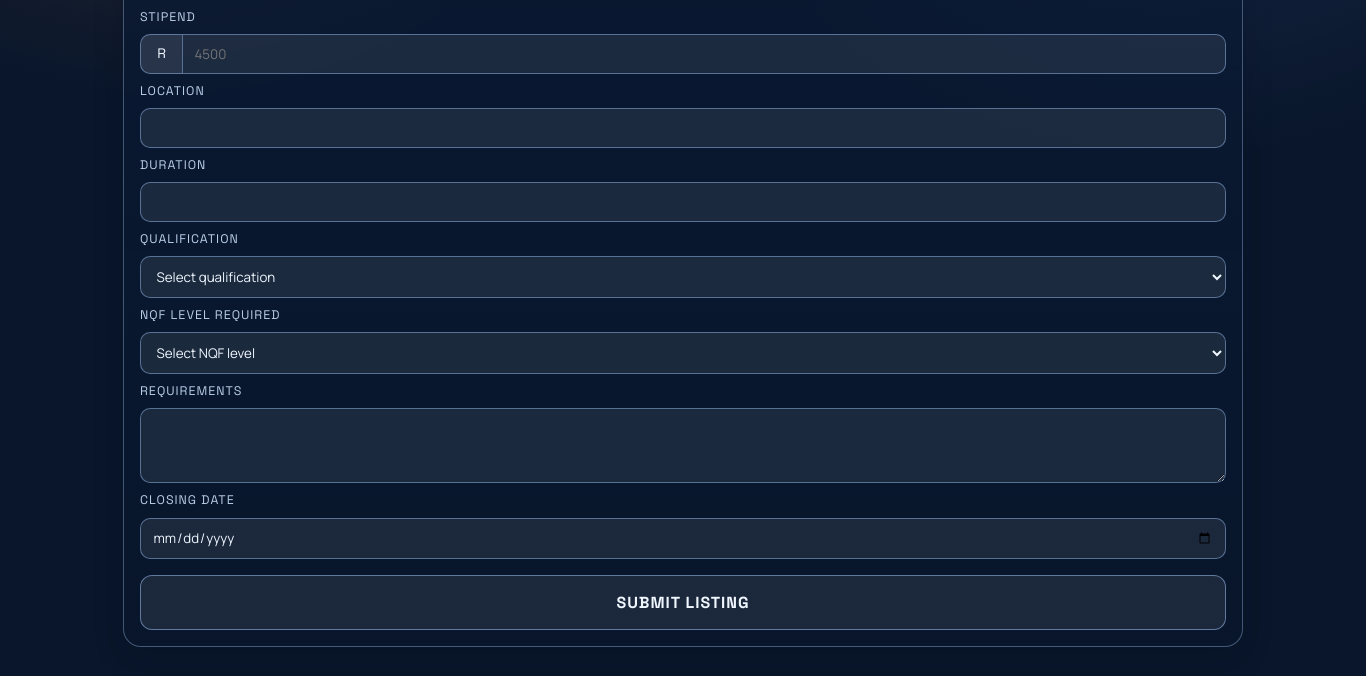
Test case: ProviderListingForm acceptance tests › shows validation errors when required fields are missing
The width and height of the screenshot is (1366, 676).
(page scrolled)
Click the button "Submit listing". click: (683, 603)
box: [140,575,1226,630]
(page scrolled)
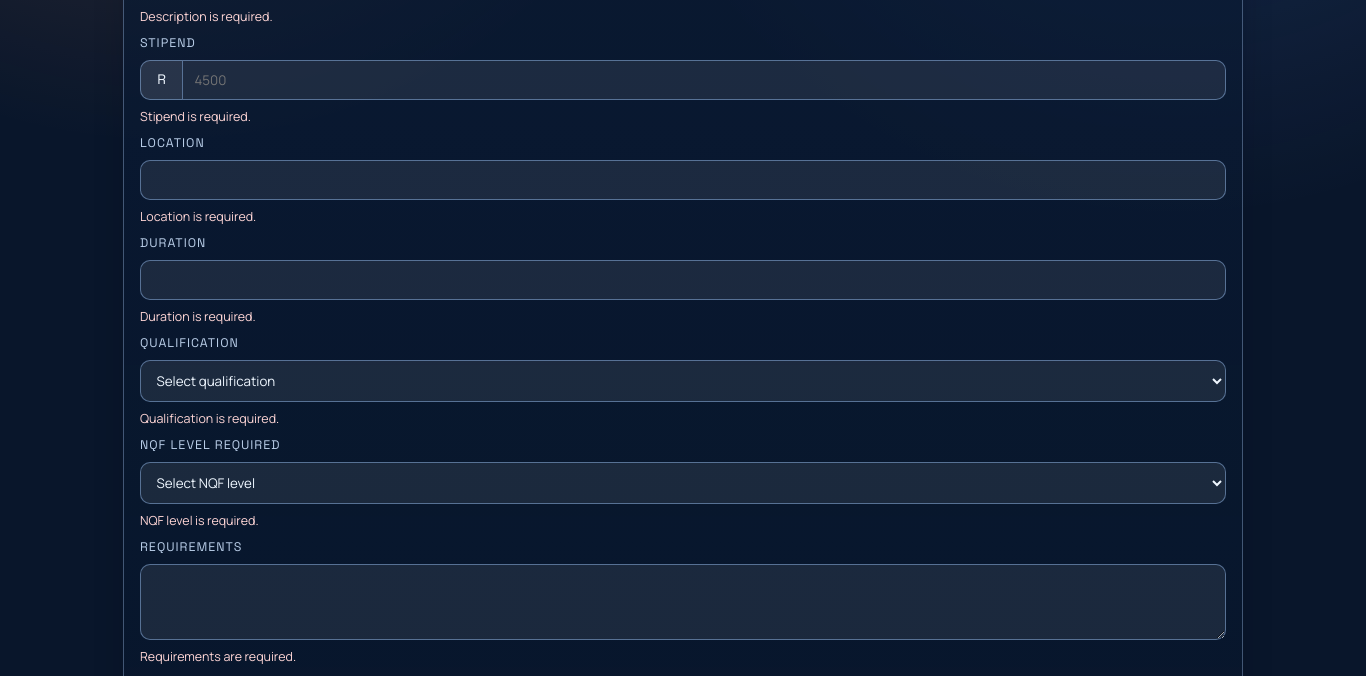
Now the text "Description is required." is shown, box [140,8,273,25]
Now the text "Requirements are required." is shown, box [140,648,296,665]
Now the text "Stipend is required." is shown, box [140,108,251,125]
